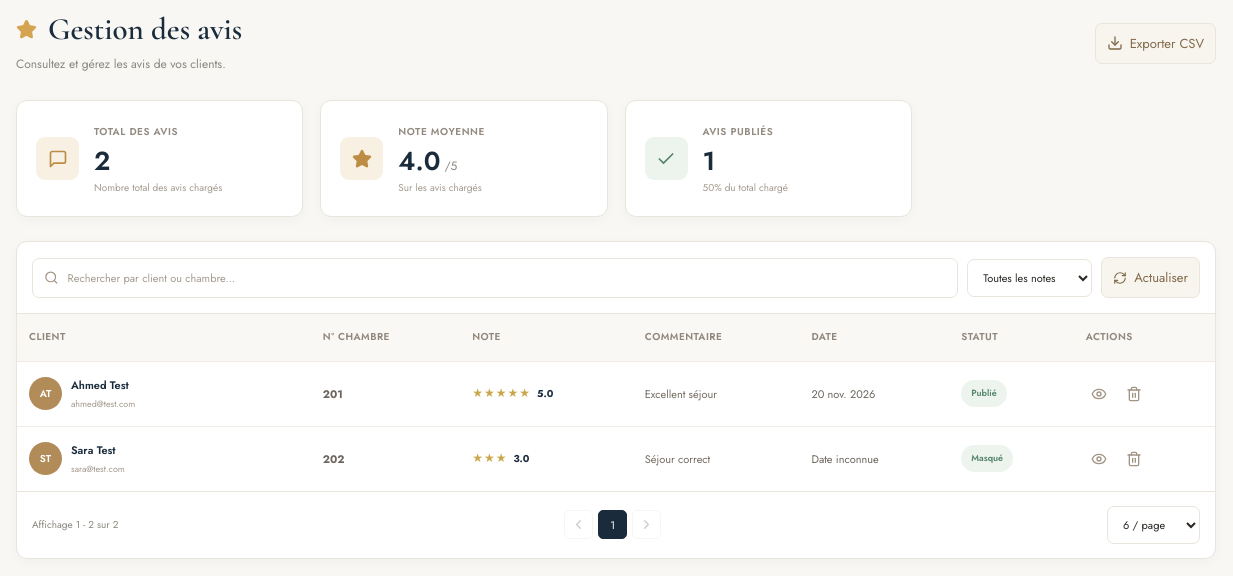
it: AdminAvisPage › recherche par  AHMED
The image size is (1233, 576).
Expected: the text "Ahmed Test" is shown, left=71, top=376, right=135, bottom=394
Step 1. Type " AHMED " into the field with placeholder "Rechercher par client ou chambre..." → (507, 278), box left=68, top=269, right=946, bottom=287
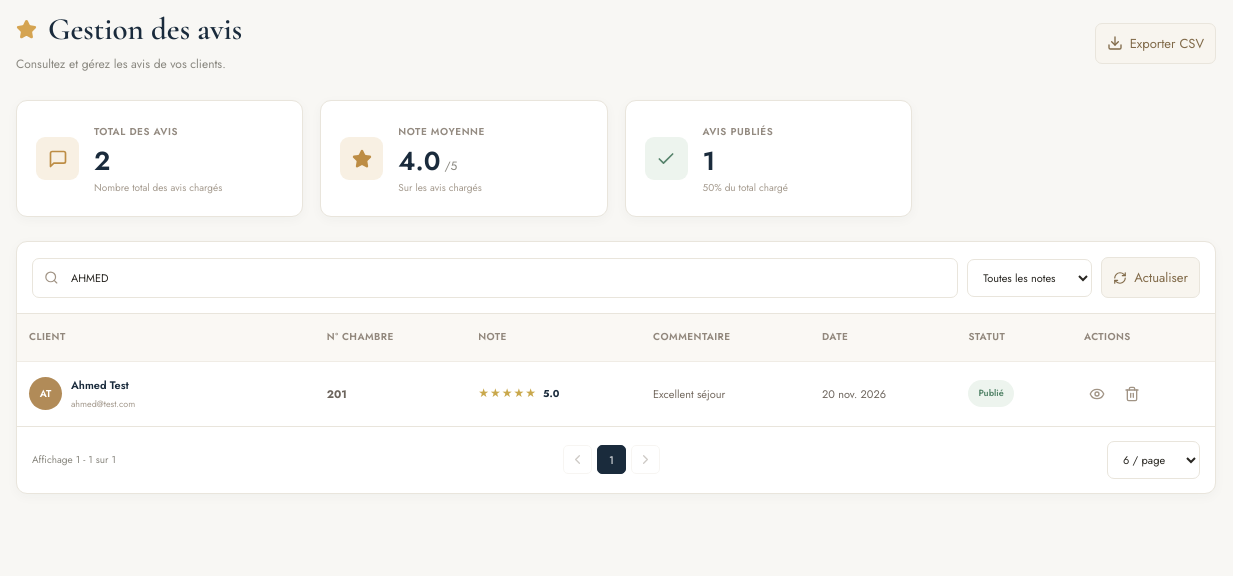
Expected: the text "Ahmed Test" is shown, left=71, top=376, right=135, bottom=394
Expected: the text "Sara Test" is gone
